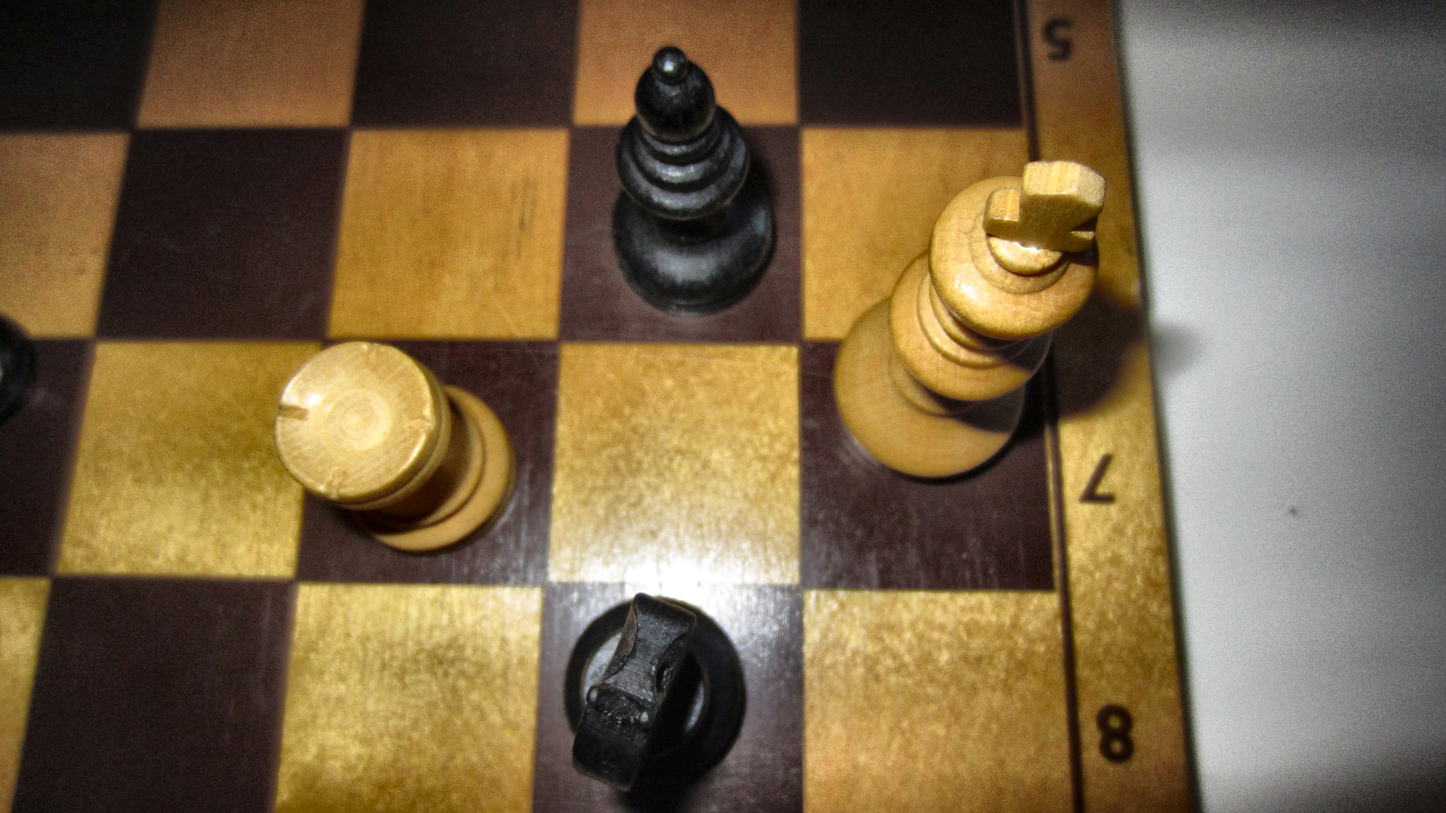black-bishop: (610, 44, 777, 318)
black-knight: (557, 592, 752, 793)
white-king: (828, 157, 1106, 487)
white-rook: (273, 338, 521, 557)
